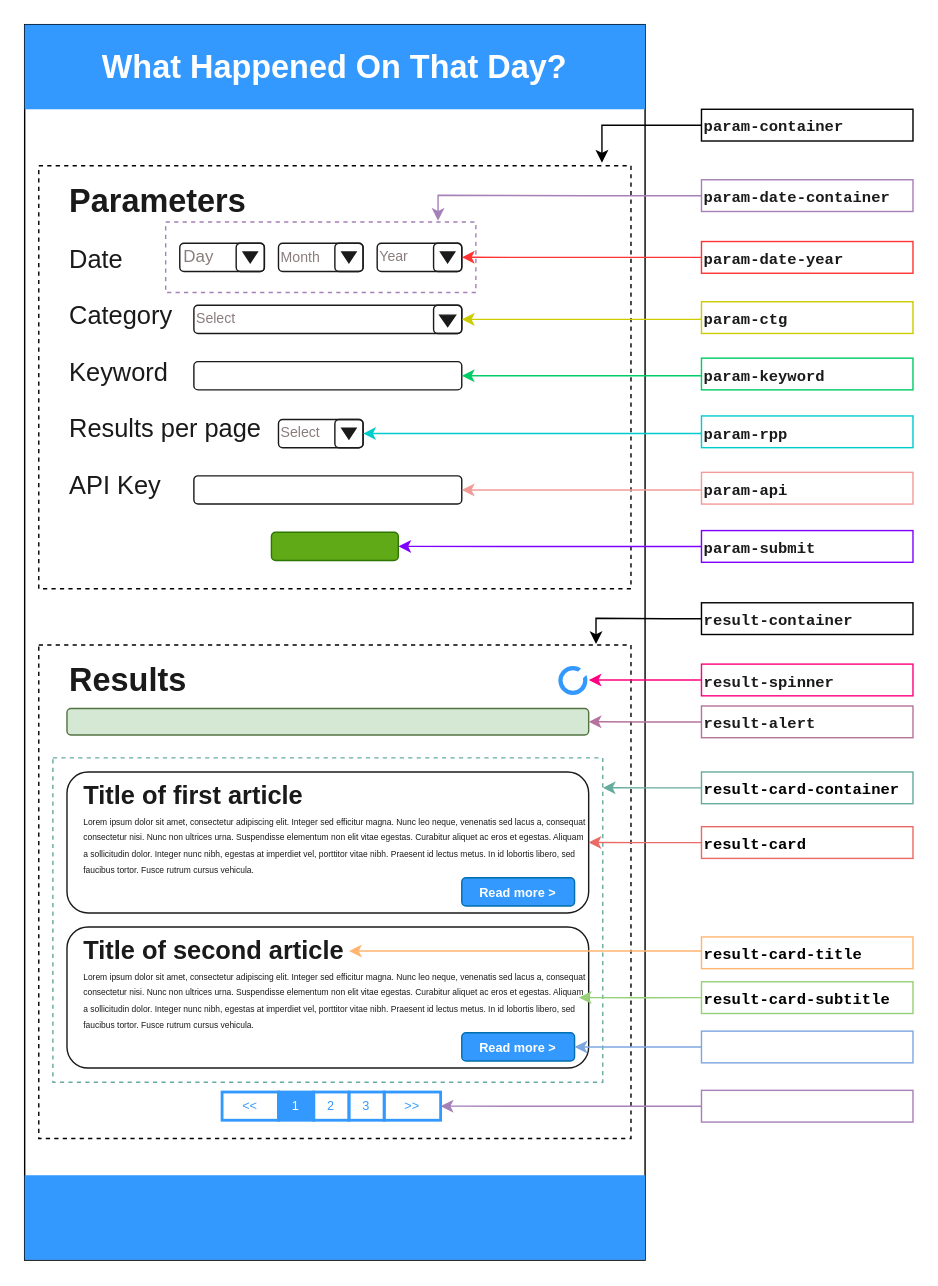
The diagram is 938 pixels wide and 1286 high, and some of its shapes have lost their labels. Each missing label, with the centre of its shape:
"Found 20 articles!" belongs at point (327, 721).
"Optional" belongs at point (327, 375).
"result-card-button" belongs at point (806, 1046).
"result-pagination" belongs at point (806, 1105).
"Submit" belongs at point (334, 545).
"Your API Key" belongs at point (327, 489).
